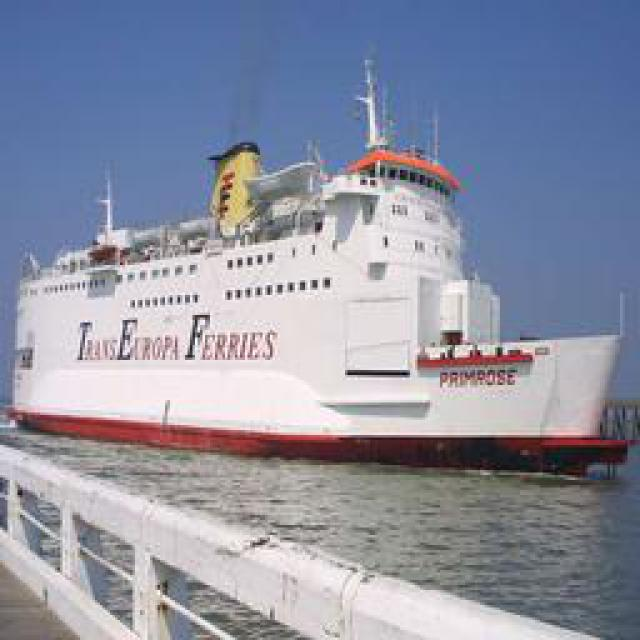Ship: (17, 35, 635, 465)
